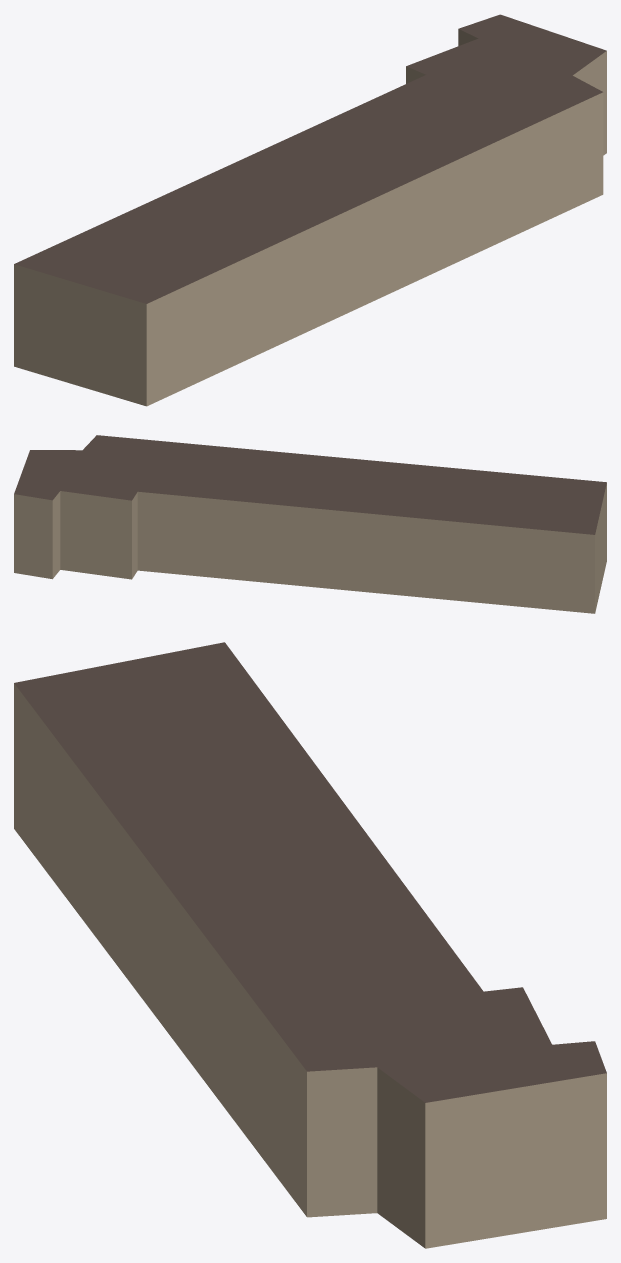
The picture shows the model from 3 angles, top to bottom: view 1: azimuth 30°, elevation 25°; view 2: azimuth 150°, elevation 25°; view 3: azimuth 270°, elevation 25°; orthographic projection. The views are drawn at different scales.
Visible parts, largest first — view 1: HP-w1512800288; view 2: HP-w1512800288; view 3: HP-w1512800288.
Part boxes in pixels (x1,y1,x2,y2): HP-w1512800288: [14, 14, 606, 406]; HP-w1512800288: [14, 435, 606, 613]; HP-w1512800288: [14, 642, 606, 1248].
Bounding box in the file's own units: 60.99 × 9 × 33.17.
